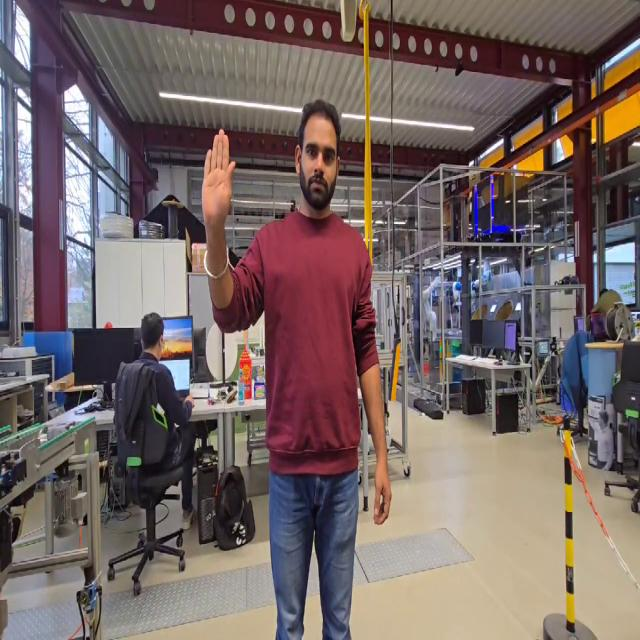open_palm: (199, 123, 239, 234)
